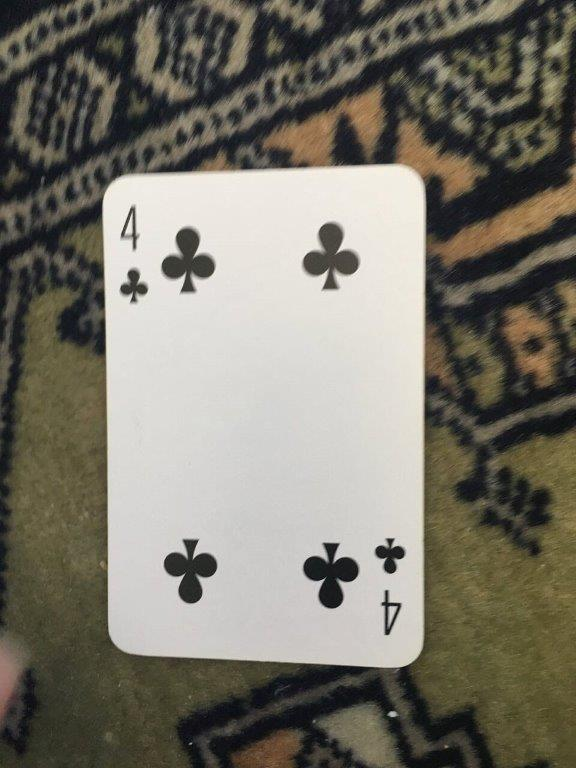4C: (97, 159, 430, 673)
